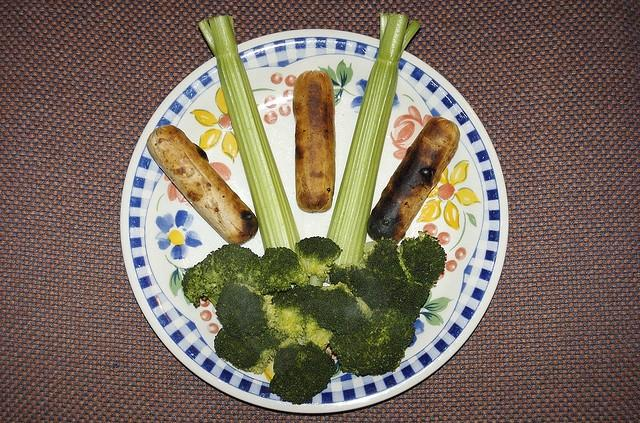broccoli: (272, 282, 372, 351), (327, 263, 430, 323), (329, 308, 416, 376), (180, 243, 270, 308), (268, 342, 336, 405), (214, 328, 296, 374), (217, 280, 270, 340), (396, 231, 446, 288), (295, 236, 343, 287), (358, 236, 411, 282), (258, 246, 310, 292)
celery: (198, 14, 300, 252), (326, 12, 421, 265)
